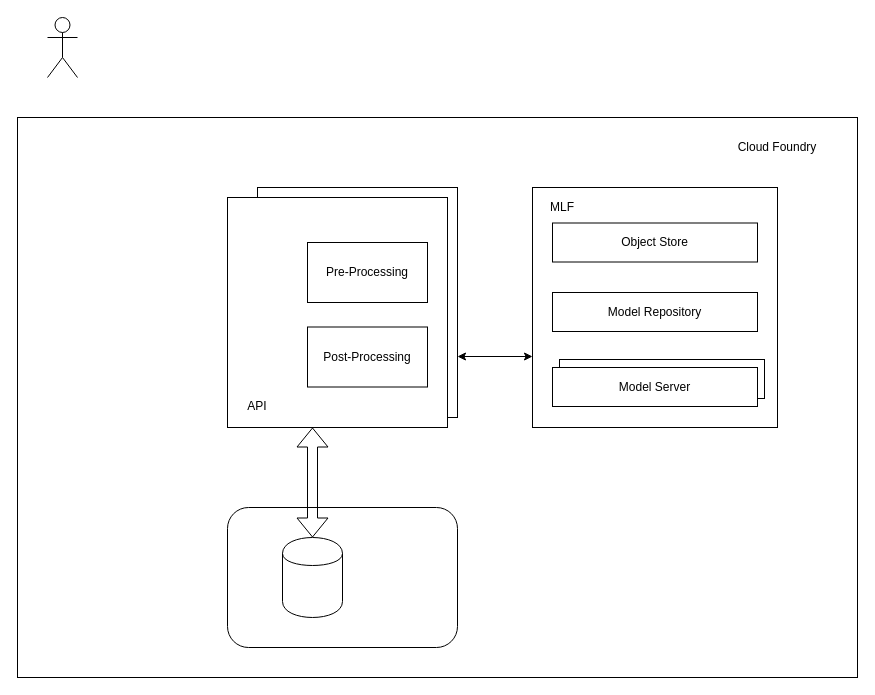
This 875x695 diagram has some shape labels left out. The centre of each missing label's shape, as x and y in pixels:
Actor: the point at 62,47
Redis Cache: the point at 312,577
